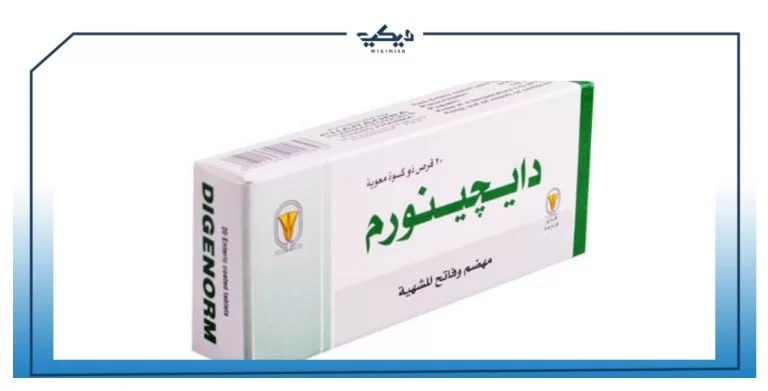Medicine: (176, 80, 602, 352)
